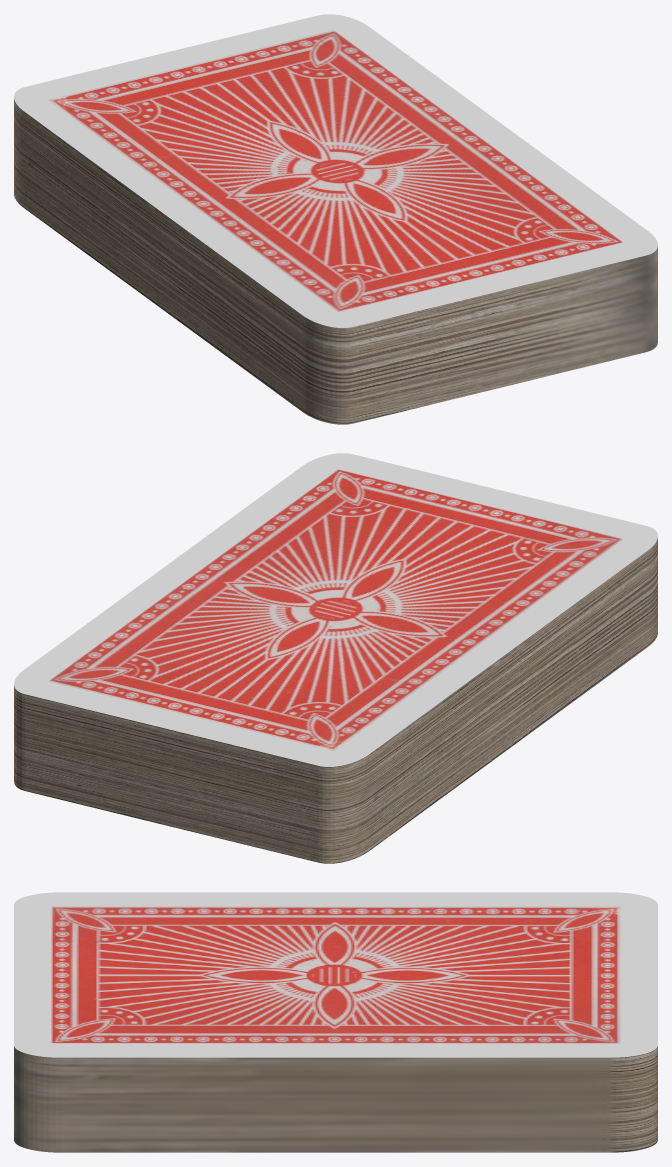
The model's file is card_deck.fbx.
3 views of the same model, one above another, from view 1: azimuth 30°, elevation 25°; view 2: azimuth 150°, elevation 25°; view 3: azimuth 270°, elevation 25° (orthographic).
Parts seen in each view (by area): view 1: TopTex_Cube, Sides_Plane, Top_Plane.002; view 2: TopTex_Cube, Sides_Plane, Top_Plane.002; view 3: TopTex_Cube, Sides_Plane, Top_Plane.002.
Boxes of the visible parts, <box> form: TopTex_Cube: <box>48,30,623,311</box>; Sides_Plane: <box>14,99,657,424</box>; Top_Plane.002: <box>14,14,657,327</box>; TopTex_Cube: <box>48,469,623,750</box>; Sides_Plane: <box>14,538,657,863</box>; Top_Plane.002: <box>14,453,657,766</box>; TopTex_Cube: <box>51,906,620,1043</box>; Sides_Plane: <box>14,1046,657,1152</box>; Top_Plane.002: <box>14,892,657,1057</box>.
Bounding box in the file's own units: 122 × 32.53 × 200.
Materials: 3 (2 with a texture image).
